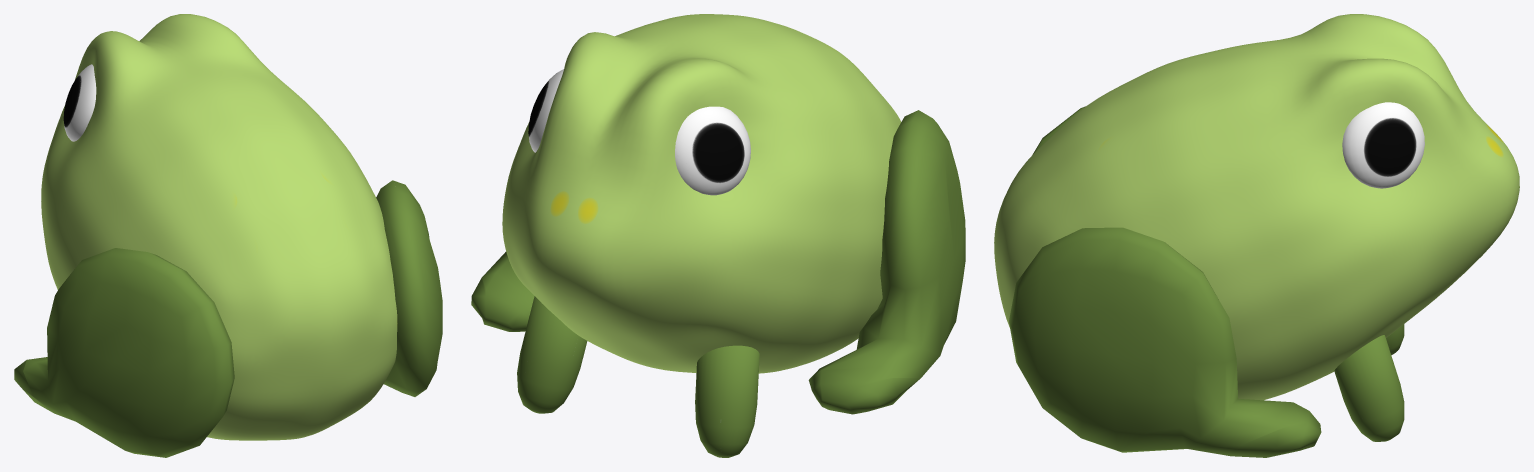
Rendered from frog.fbx.
3 views of the same model, side by side, from view 1: azimuth 30°, elevation 25°; view 2: azimuth 150°, elevation 25°; view 3: azimuth 270°, elevation 25° (orthographic). The views are drawn at different scales.
Parts seen in each view (by area): view 1: Roundcube, Roundcube.001, Sphere; view 2: Roundcube, Roundcube.001, Cylinder, Sphere; view 3: Roundcube, Roundcube.001, Sphere, Cylinder.
Boxes of the visible parts, x1,y1,x2,y2 form: Roundcube: [41, 14, 397, 440]; Roundcube.001: [14, 180, 442, 457]; Sphere: [63, 64, 96, 141]; Roundcube: [502, 14, 901, 373]; Roundcube.001: [471, 110, 965, 414]; Cylinder: [517, 296, 759, 457]; Sphere: [528, 69, 750, 195]; Roundcube: [994, 14, 1519, 400]; Roundcube.001: [1009, 106, 1321, 457]; Sphere: [1342, 102, 1424, 188]; Cylinder: [1334, 324, 1404, 441].
Size of the model in its own units: 247 by 207 by 276.
4 materials, 4 textured.
